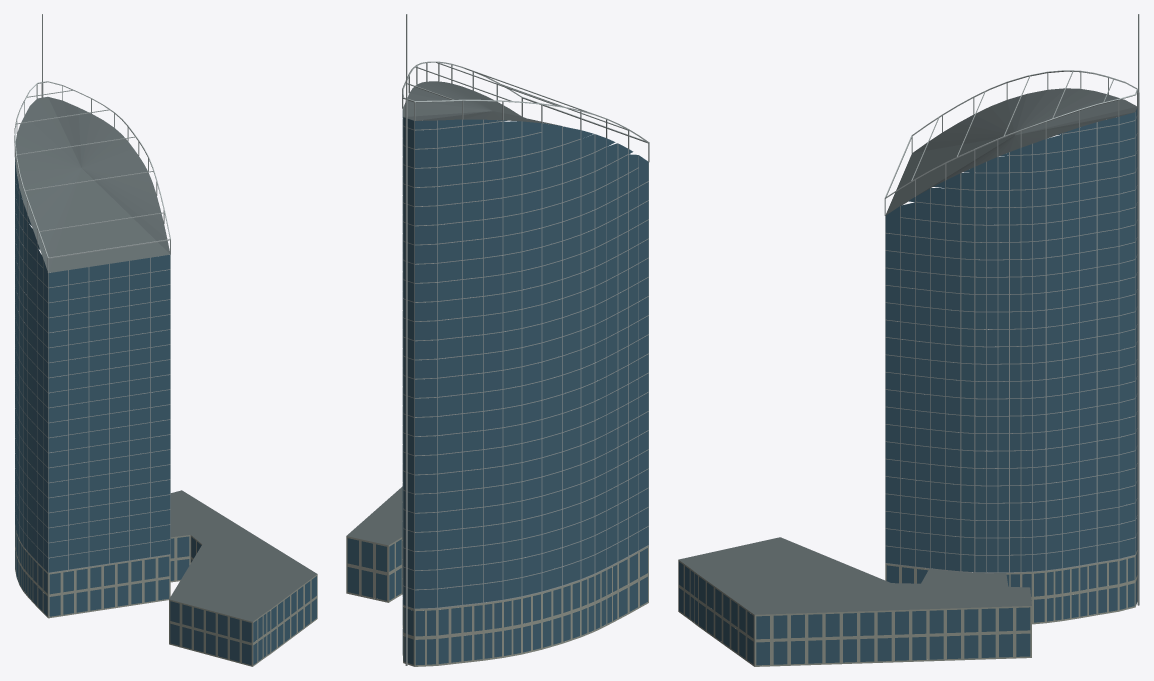
The model's file is tour-paradis-liege-far.glb.
3 renders of one model, left to right at view 1: azimuth 30°, elevation 25°; view 2: azimuth 150°, elevation 25°; view 3: azimuth 270°, elevation 25°, orthographic. The views are drawn at different scales.
Visible parts, largest first — view 1: tour-paradis-liege-0-glass, tour-paradis-liege-0-roof, tour-paradis-liege-0-metal, tour-paradis-liege-0-stone; view 2: tour-paradis-liege-0-glass, tour-paradis-liege-0-metal, tour-paradis-liege-0-stone, tour-paradis-liege-0-roof; view 3: tour-paradis-liege-0-glass, tour-paradis-liege-0-roof, tour-paradis-liege-0-metal, tour-paradis-liege-0-stone.
Part boxes in pixels (left/top/right/bottom): tour-paradis-liege-0-glass: left=15, top=159, right=316, bottom=665; tour-paradis-liege-0-roof: left=15, top=96, right=316, bottom=621; tour-paradis-liege-0-metal: left=14, top=14, right=170, bottom=573; tour-paradis-liege-0-stone: left=15, top=525, right=317, bottom=666; tour-paradis-liege-0-glass: left=347, top=110, right=648, bottom=665; tour-paradis-liege-0-metal: left=402, top=14, right=649, bottom=665; tour-paradis-liege-0-stone: left=346, top=536, right=648, bottom=666; tour-paradis-liege-0-roof: left=346, top=81, right=560, bottom=545; tour-paradis-liege-0-glass: left=679, top=108, right=1137, bottom=665; tour-paradis-liege-0-roof: left=678, top=88, right=1137, bottom=614; tour-paradis-liege-0-metal: left=884, top=14, right=1139, bottom=605; tour-paradis-liege-0-stone: left=678, top=550, right=1137, bottom=666.
Size of the model in its own units: 56.29 by 136 by 96.24.
